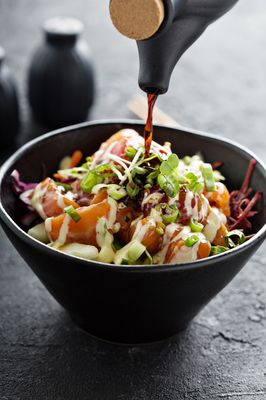curry: (157, 153, 214, 198)
sushi: (0, 118, 266, 346)
